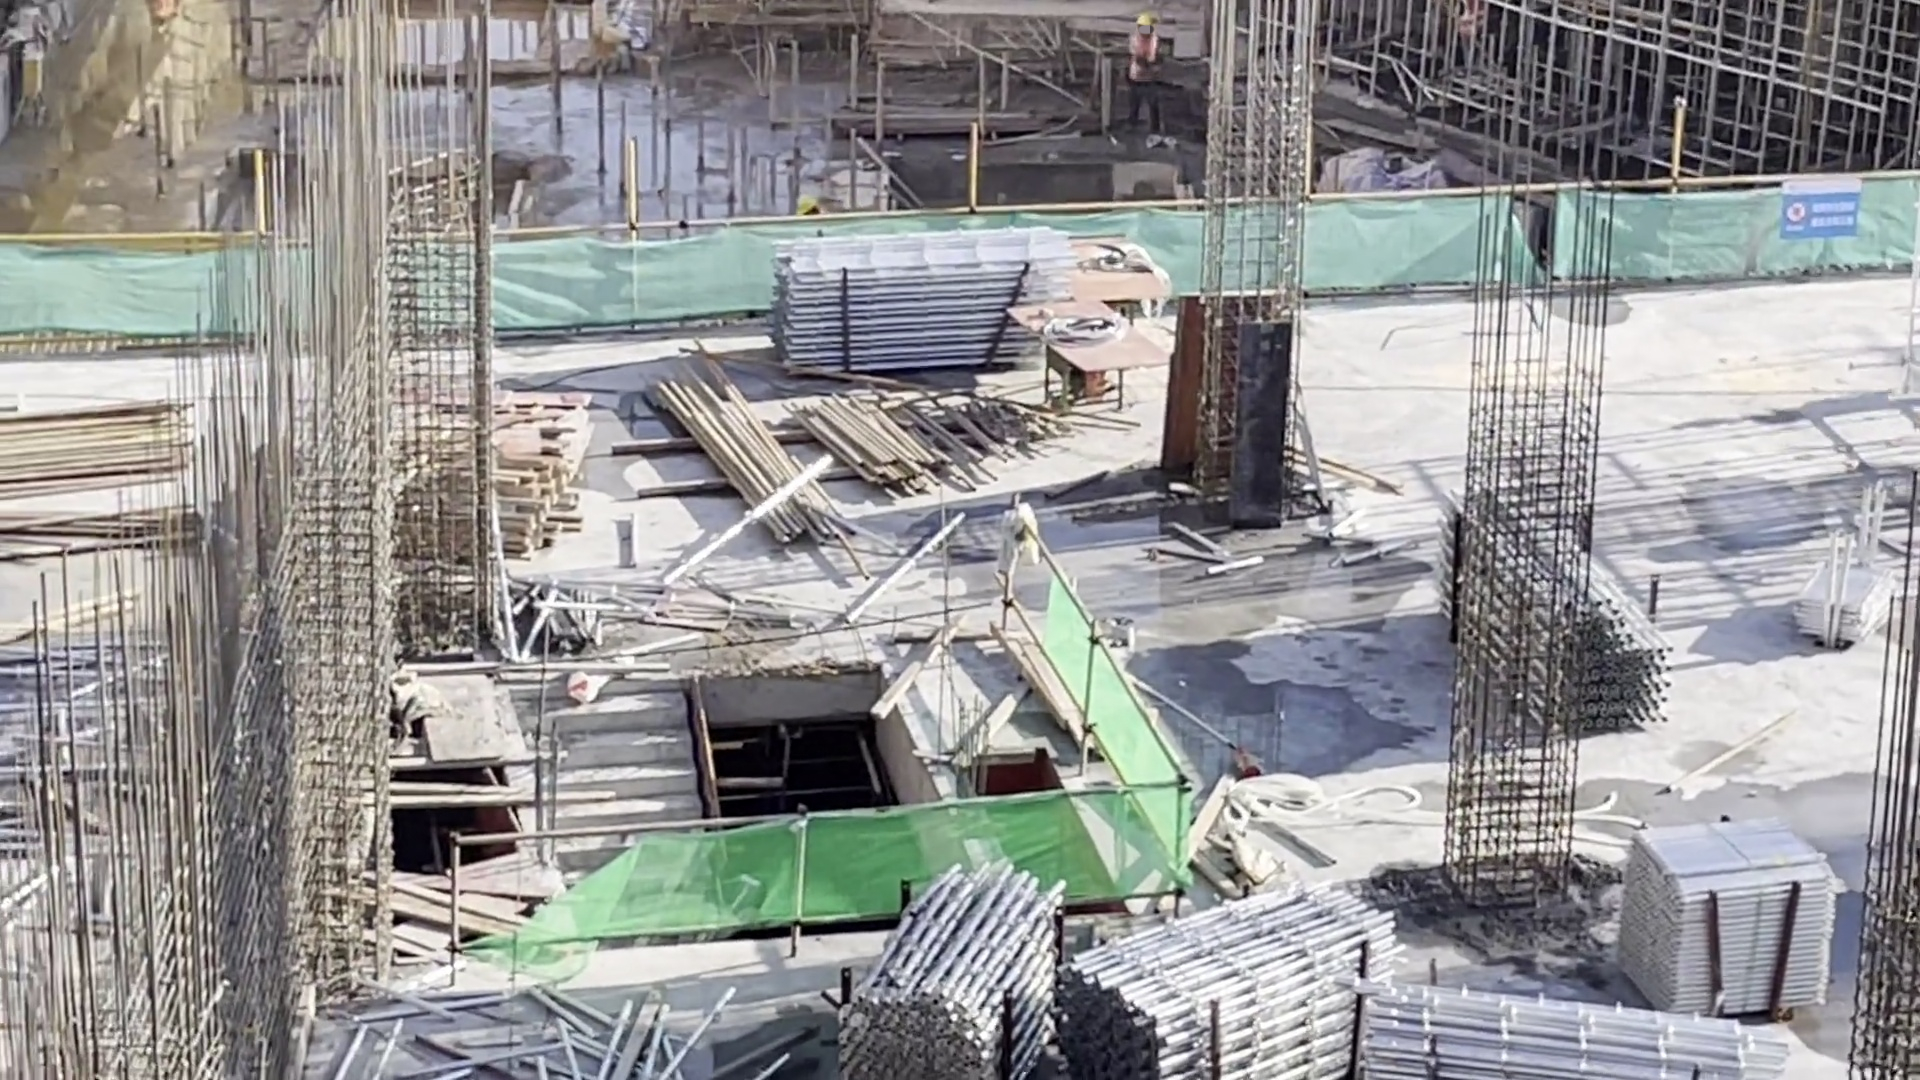cutter: (1039, 314, 1148, 414), (1079, 232, 1166, 308)
helmet: (795, 195, 815, 214), (1133, 14, 1157, 29)
person: (1121, 9, 1161, 137)
scaffold: (1023, 876, 1392, 1080), (781, 888, 1093, 1056), (757, 232, 1079, 369), (1365, 965, 1740, 1080), (1648, 820, 1828, 1038), (1484, 492, 1631, 736), (1811, 523, 1889, 661)
slogan: (1780, 190, 1860, 244)
vest: (1126, 37, 1159, 95)
wood: (369, 428, 563, 579)
